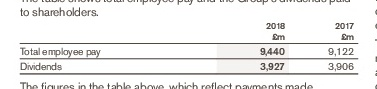table: (0, 0, 377, 89)
